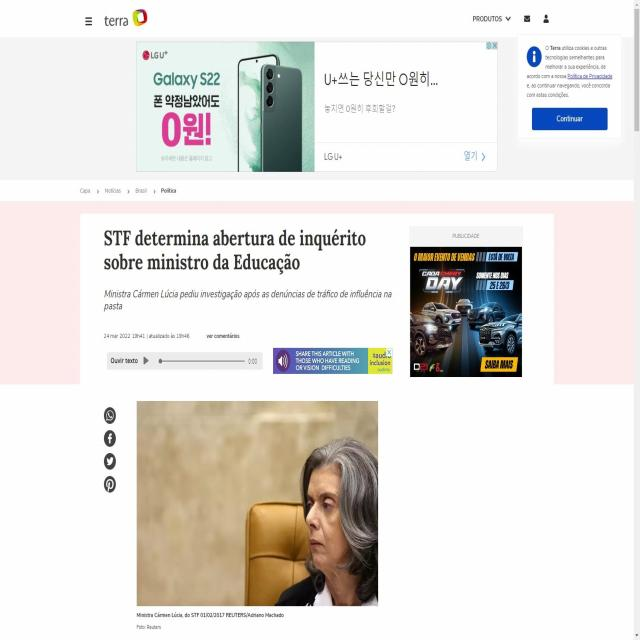button: (532, 108, 608, 130), (103, 406, 117, 425), (104, 430, 116, 448), (104, 476, 116, 494), (104, 453, 116, 470), (84, 13, 94, 28)
select: (471, 12, 512, 24)
